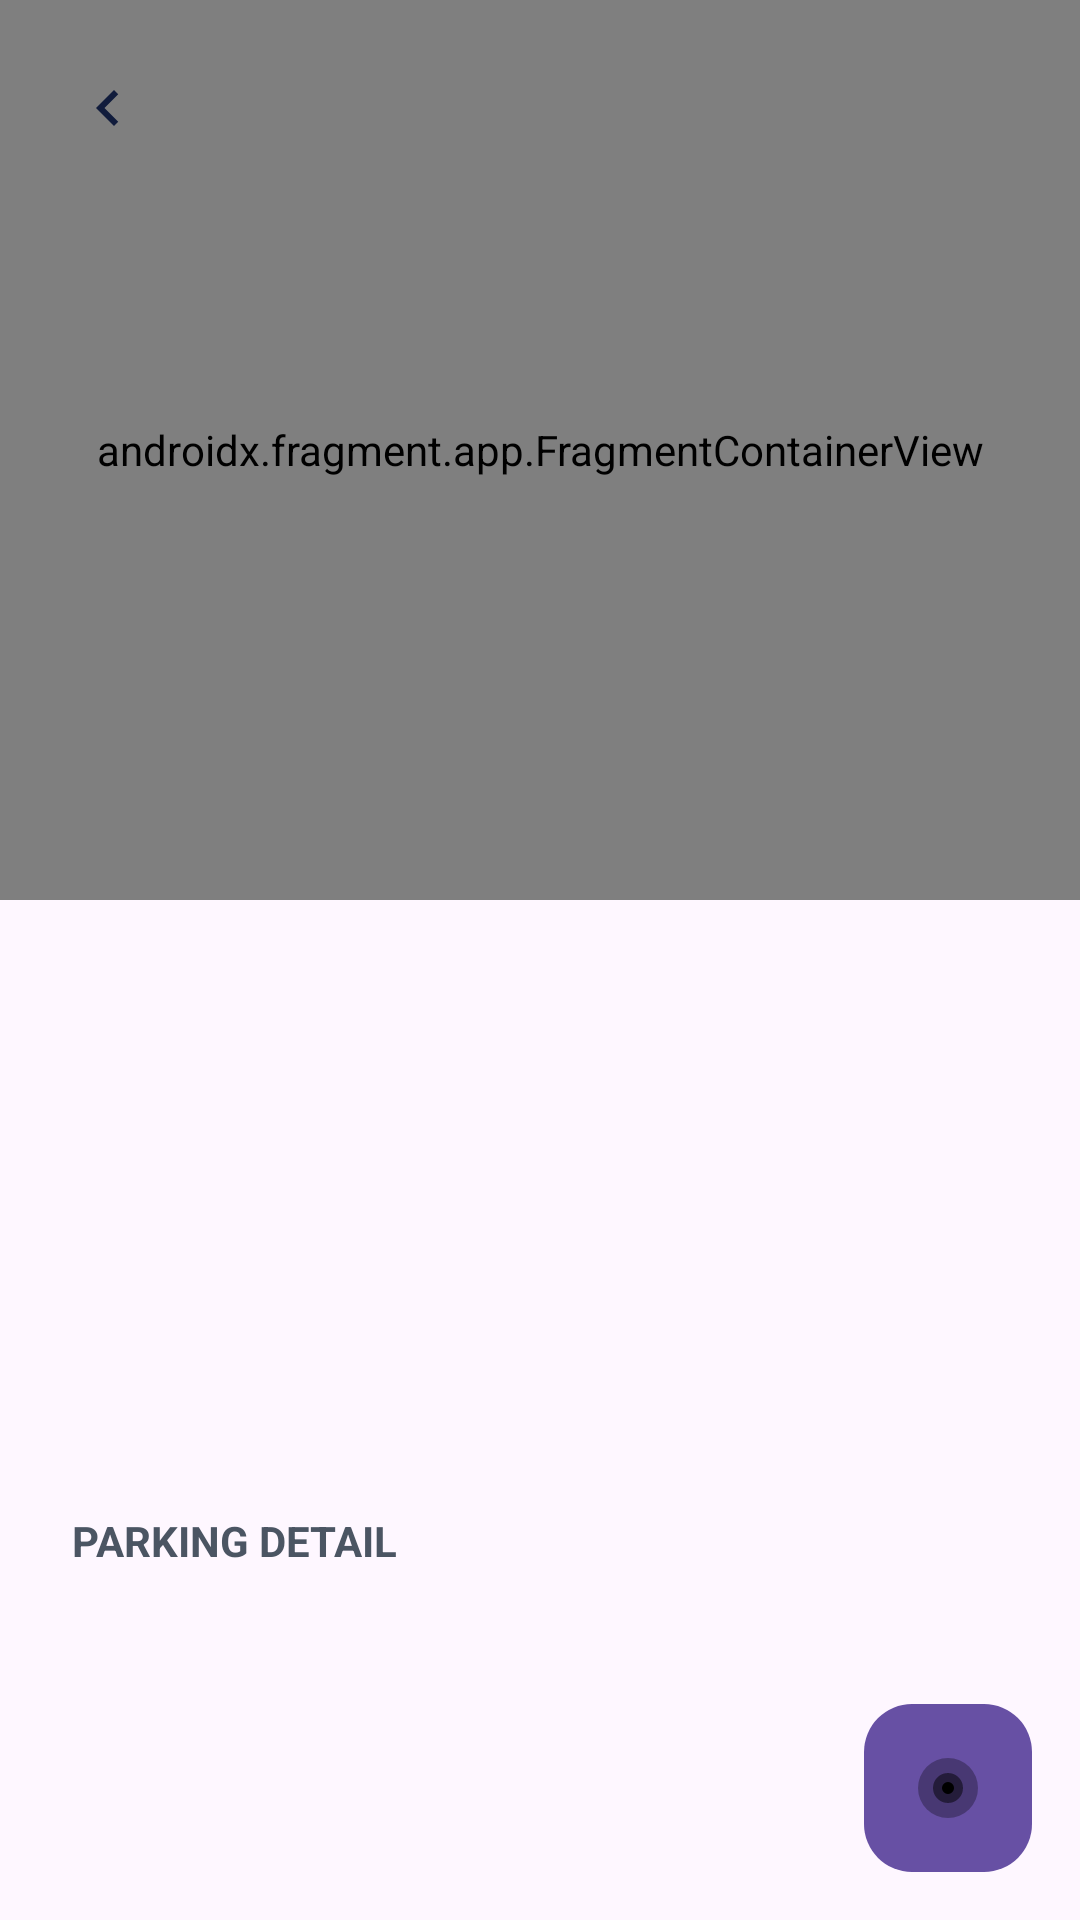

Where to tap for icons on this 1080 × 1920 app screen, as (x,y):
back: (107,108)
location target: (948,1788)
